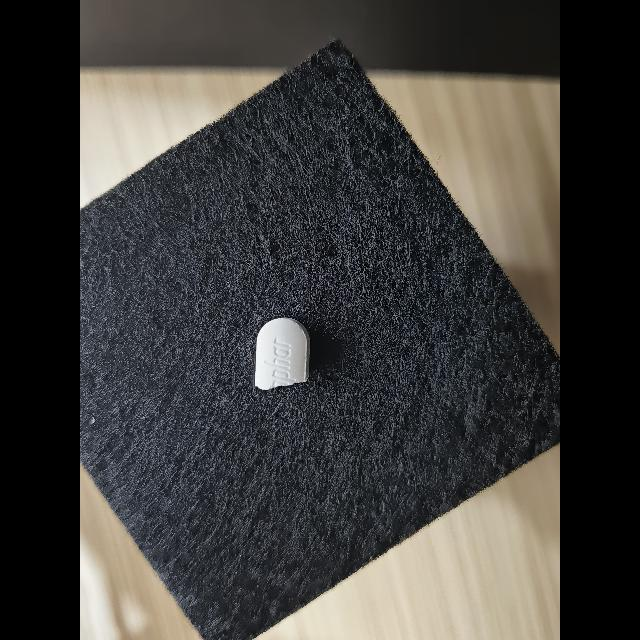Chipped Pill: (255, 318, 310, 390)
